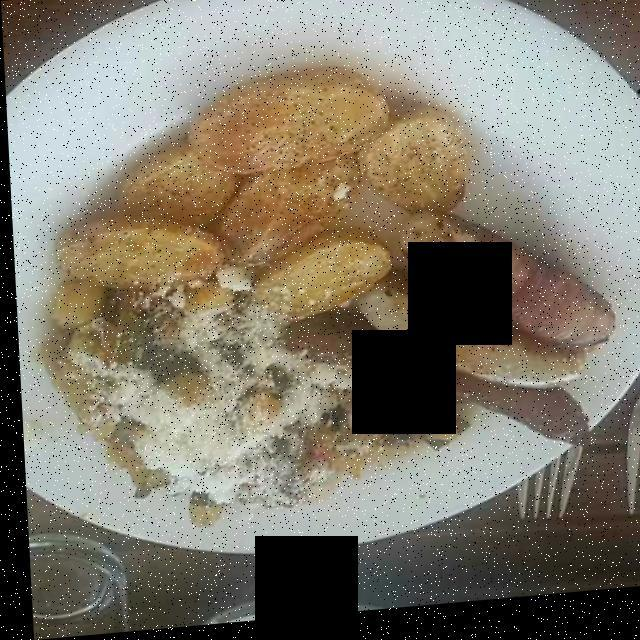cheese: (108, 279, 352, 513)
potatoes: (52, 94, 473, 332)
sausage: (348, 213, 614, 402), (240, 319, 578, 455)
